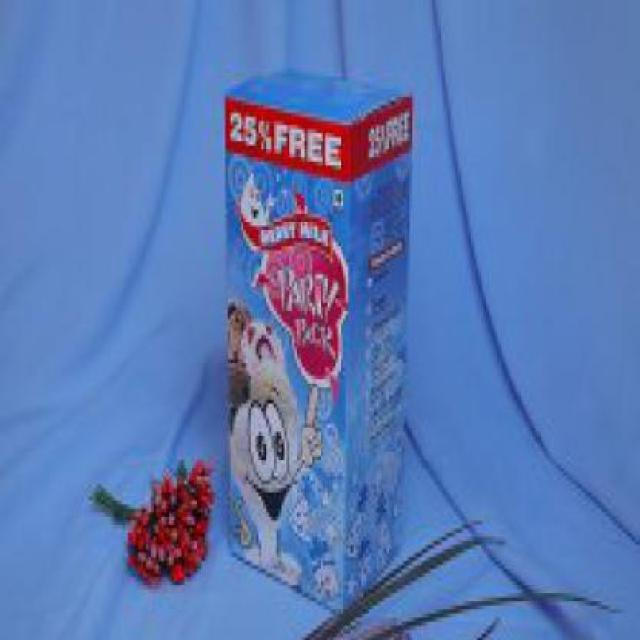box: (213, 61, 442, 634)
